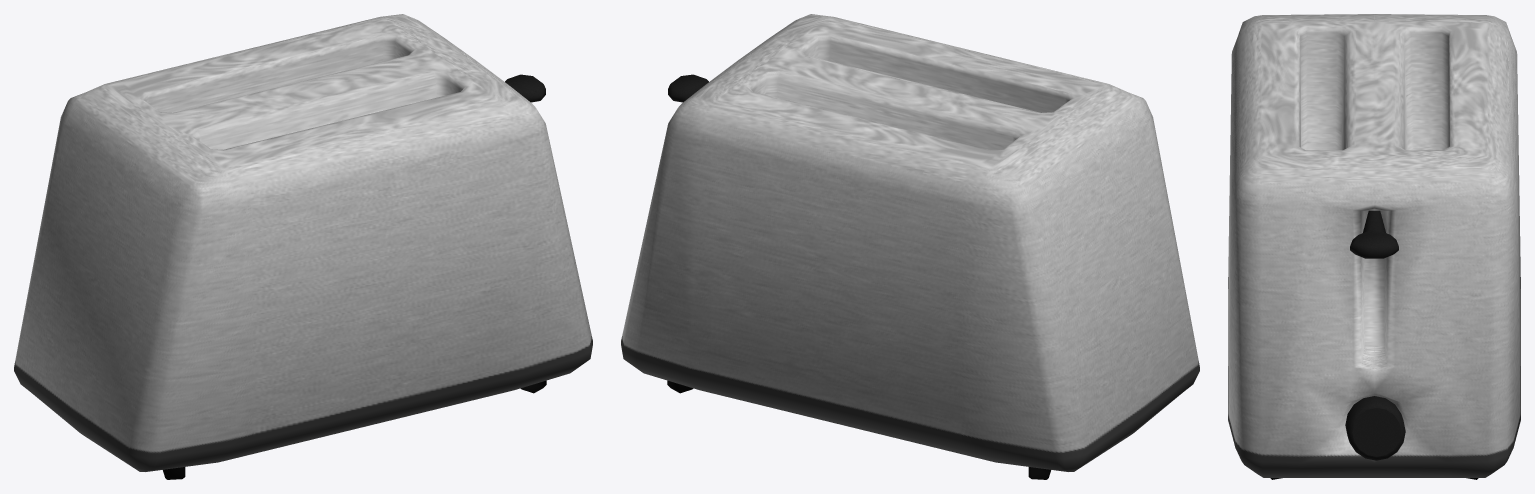
Rendered from toaster.glb.
The picture shows the model from 3 angles, left to right: view 1: azimuth 30°, elevation 25°; view 2: azimuth 150°, elevation 25°; view 3: azimuth 270°, elevation 25°; orthographic projection.
Visible parts, largest first — view 1: toaster, toaster.002; view 2: toaster, toaster.002; view 3: toaster, toaster.001, toaster.002.
Boxes of the visible parts, bbox=[...] form: toaster: bbox=[14, 14, 592, 479]; toaster.002: bbox=[505, 74, 545, 102]; toaster: bbox=[621, 14, 1199, 479]; toaster.002: bbox=[668, 74, 708, 102]; toaster: bbox=[1228, 14, 1520, 479]; toaster.001: bbox=[1345, 396, 1405, 460]; toaster.002: bbox=[1350, 210, 1398, 258].
Bounding box in the file's own units: 0.574 × 0.3365 × 0.2965.
1 material, 1 textured.
